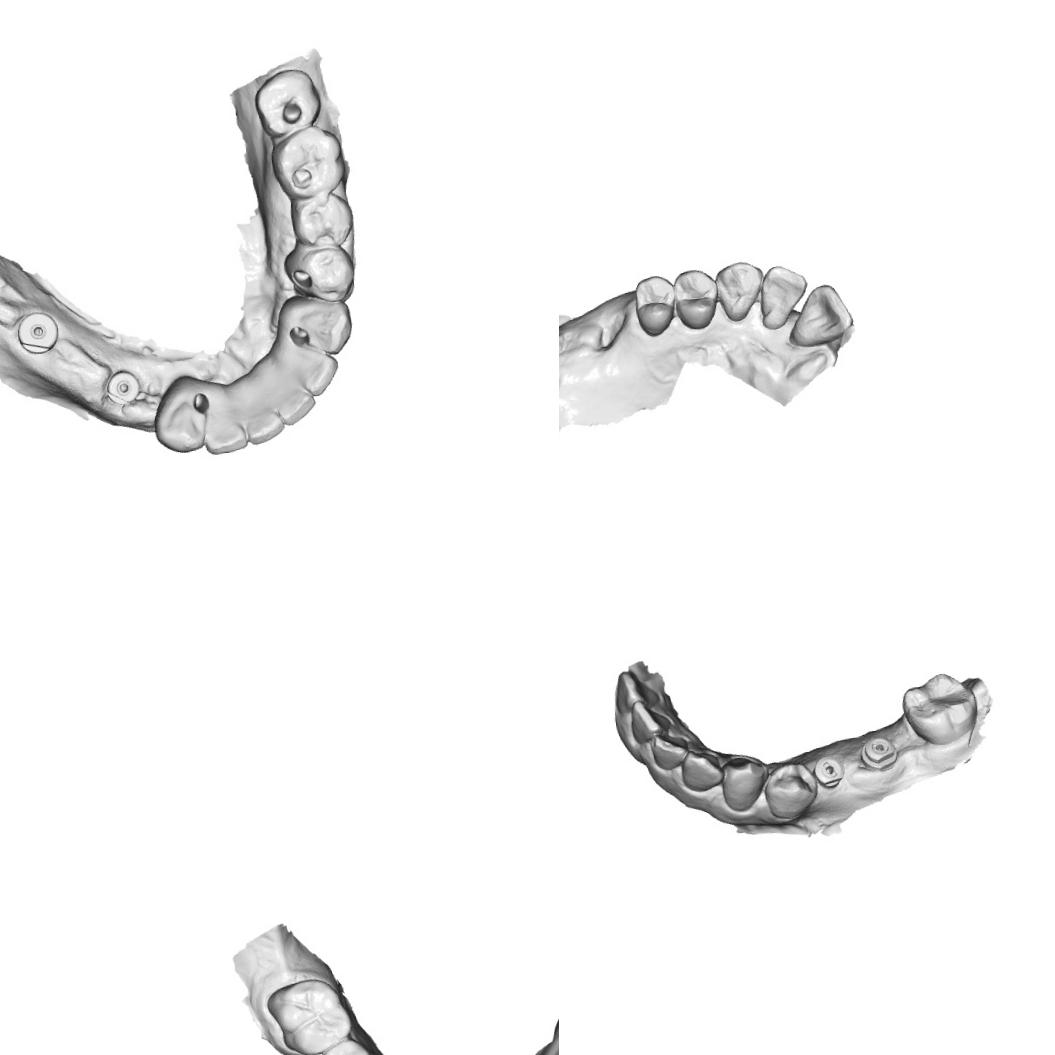canine: (268, 286, 355, 358), (147, 369, 209, 456), (712, 256, 766, 324), (718, 751, 772, 815), (585, 304, 638, 359)
implant: (12, 301, 64, 358), (95, 366, 150, 410), (856, 734, 900, 773)
implant_minus: (810, 752, 847, 790)
incisor: (784, 280, 854, 350), (276, 336, 343, 399), (198, 379, 250, 458), (754, 260, 812, 330), (265, 362, 319, 428), (238, 373, 286, 445), (611, 665, 660, 714), (678, 746, 727, 794), (628, 696, 674, 745), (649, 730, 690, 771)
molar: (260, 974, 355, 1055), (268, 122, 350, 202), (900, 668, 980, 749), (250, 66, 325, 137)
premolar: (280, 240, 361, 306), (288, 192, 358, 248), (761, 760, 820, 823), (668, 264, 720, 334), (630, 272, 678, 338), (316, 1035, 377, 1055)
